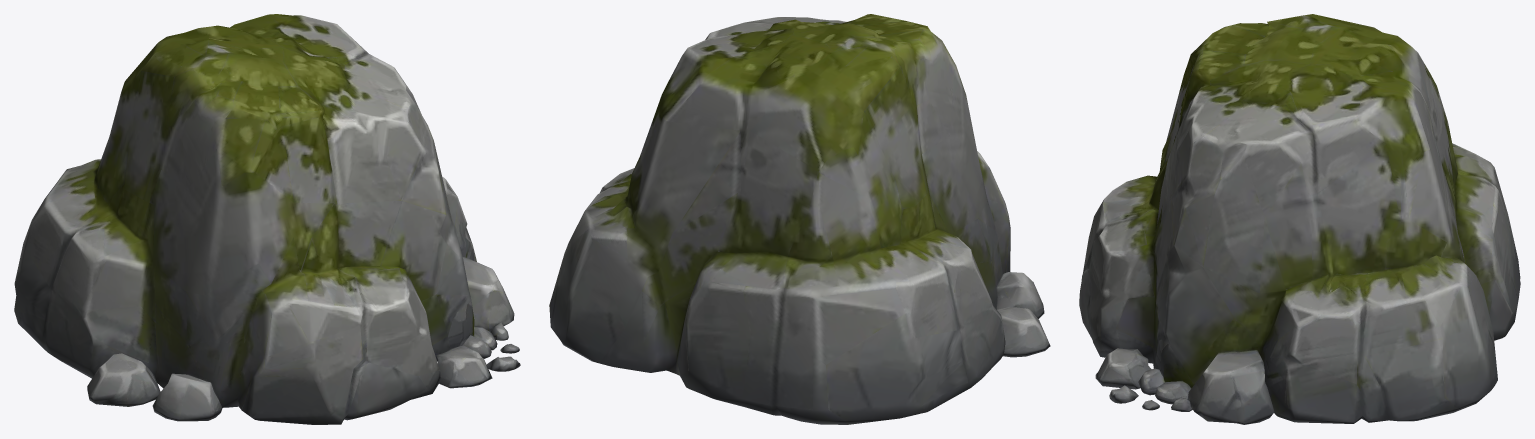
Rendered from rock.glb.
3 views of the same model, side by side, from view 1: azimuth 30°, elevation 25°; view 2: azimuth 150°, elevation 25°; view 3: azimuth 270°, elevation 25° (orthographic). The views are drawn at different scales.
Bounding box in the file's own units: 0.9575 × 0.6421 × 0.9136.
Materials: 1 (1 with a texture image).
